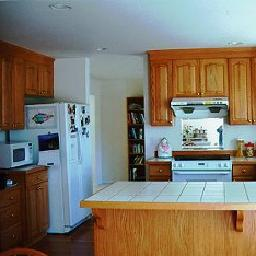Electrodomestico: (56, 106, 92, 228)
